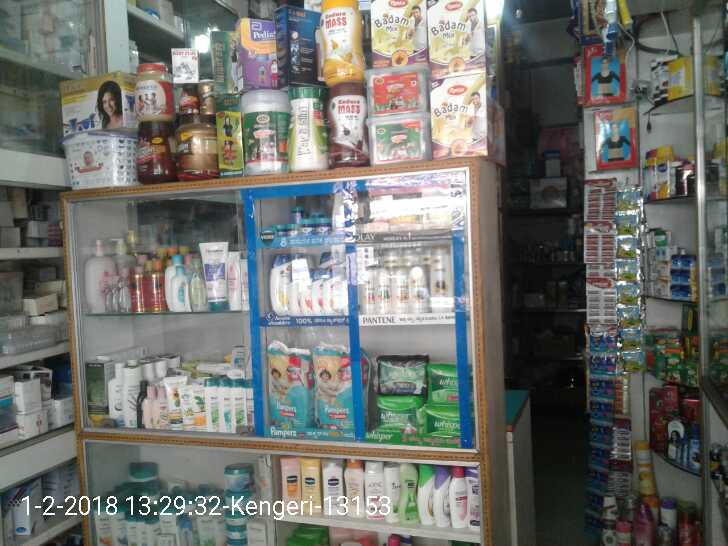beauty: (286, 254, 340, 320), (424, 249, 453, 302), (402, 263, 426, 319), (262, 254, 283, 315), (368, 264, 392, 311), (356, 268, 378, 316), (391, 263, 407, 311)
pharmacy: (312, 348, 359, 439), (268, 344, 308, 438), (369, 395, 421, 446), (375, 355, 424, 403), (418, 404, 463, 445)
